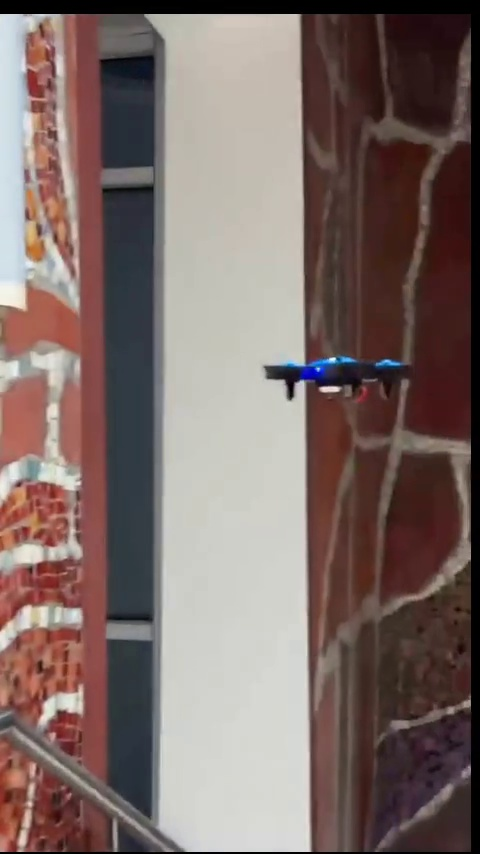drone: (265, 355, 421, 403)
